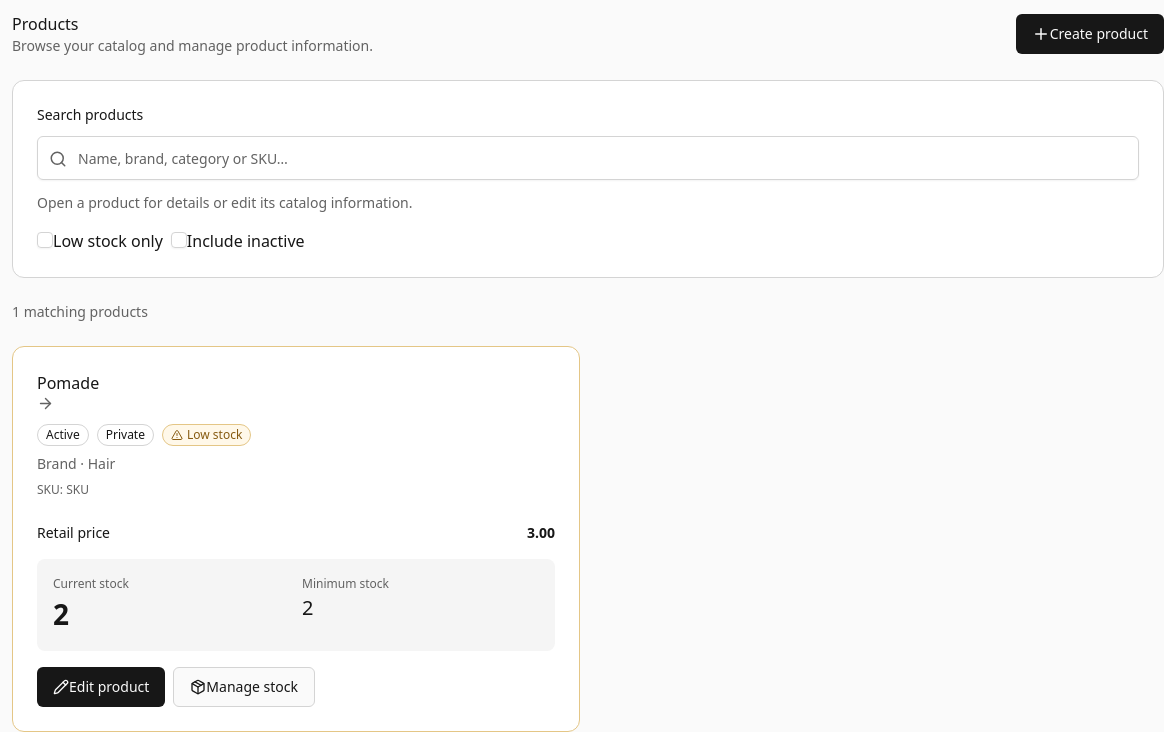
Test: product catalog shows Owner visibility and retail price with edit action
This screenshot has width=1164, height=732.
Expected: the heading "Pomade" is shown, left=37, top=372, right=99, bottom=394
Expected: the text "Private" is shown, left=97, top=424, right=154, bottom=446
Step 1. Type "Brand" into the search field labelled "Search products" → (588, 158), box left=37, top=136, right=1139, bottom=180
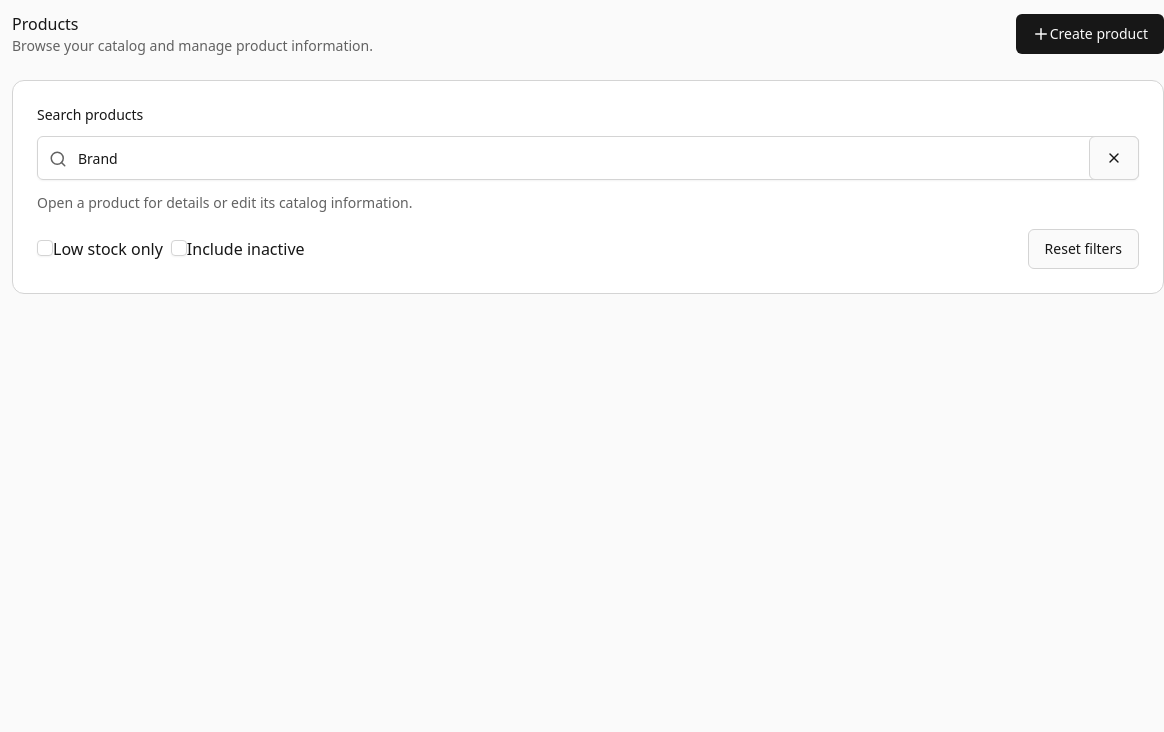
Step 2. Click the button "Reset filters" → (1083, 249), box left=1028, top=229, right=1139, bottom=269
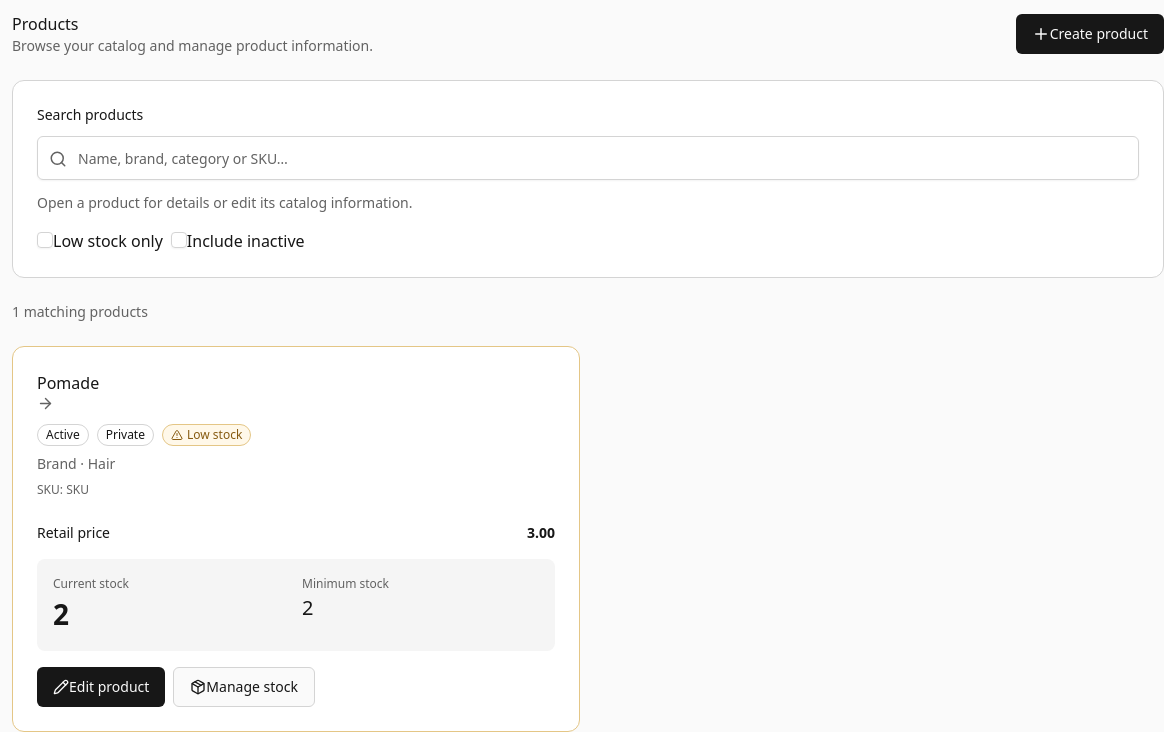
Now the search field labelled "Search products" is empty, box left=37, top=136, right=1139, bottom=180
